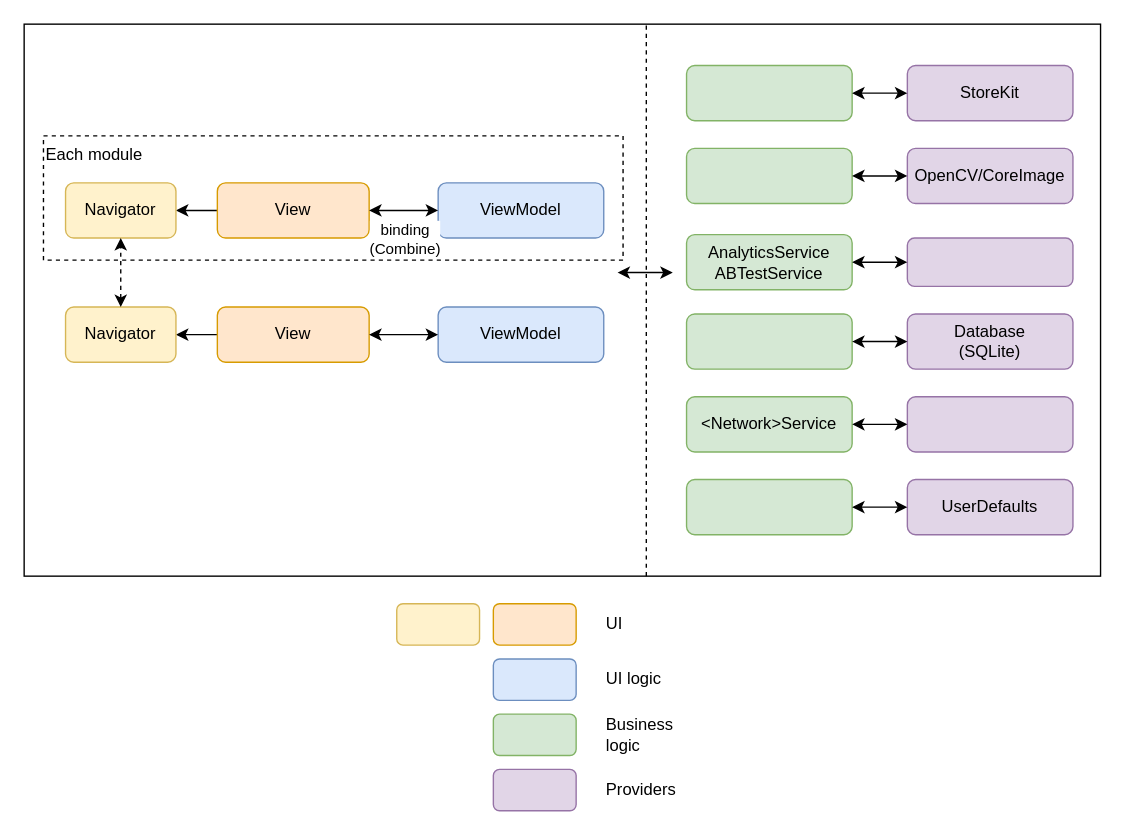
Some shapes in this 1125 by 835 pixel diagram are drawn without their labels. The shapes that lost their labels are listed below. From the top down, each one's centre as x and y in pixels, then its label:
At (x=768, y=92): "PaymentService".
At (x=768, y=175): "ImageService".
At (x=989, y=261): "Firebase/ AppMetrica/..".
At (x=768, y=341): "<Model>Service".
At (x=989, y=423): "Network (Alamofire)".
At (x=768, y=506): "PreferenceService".
